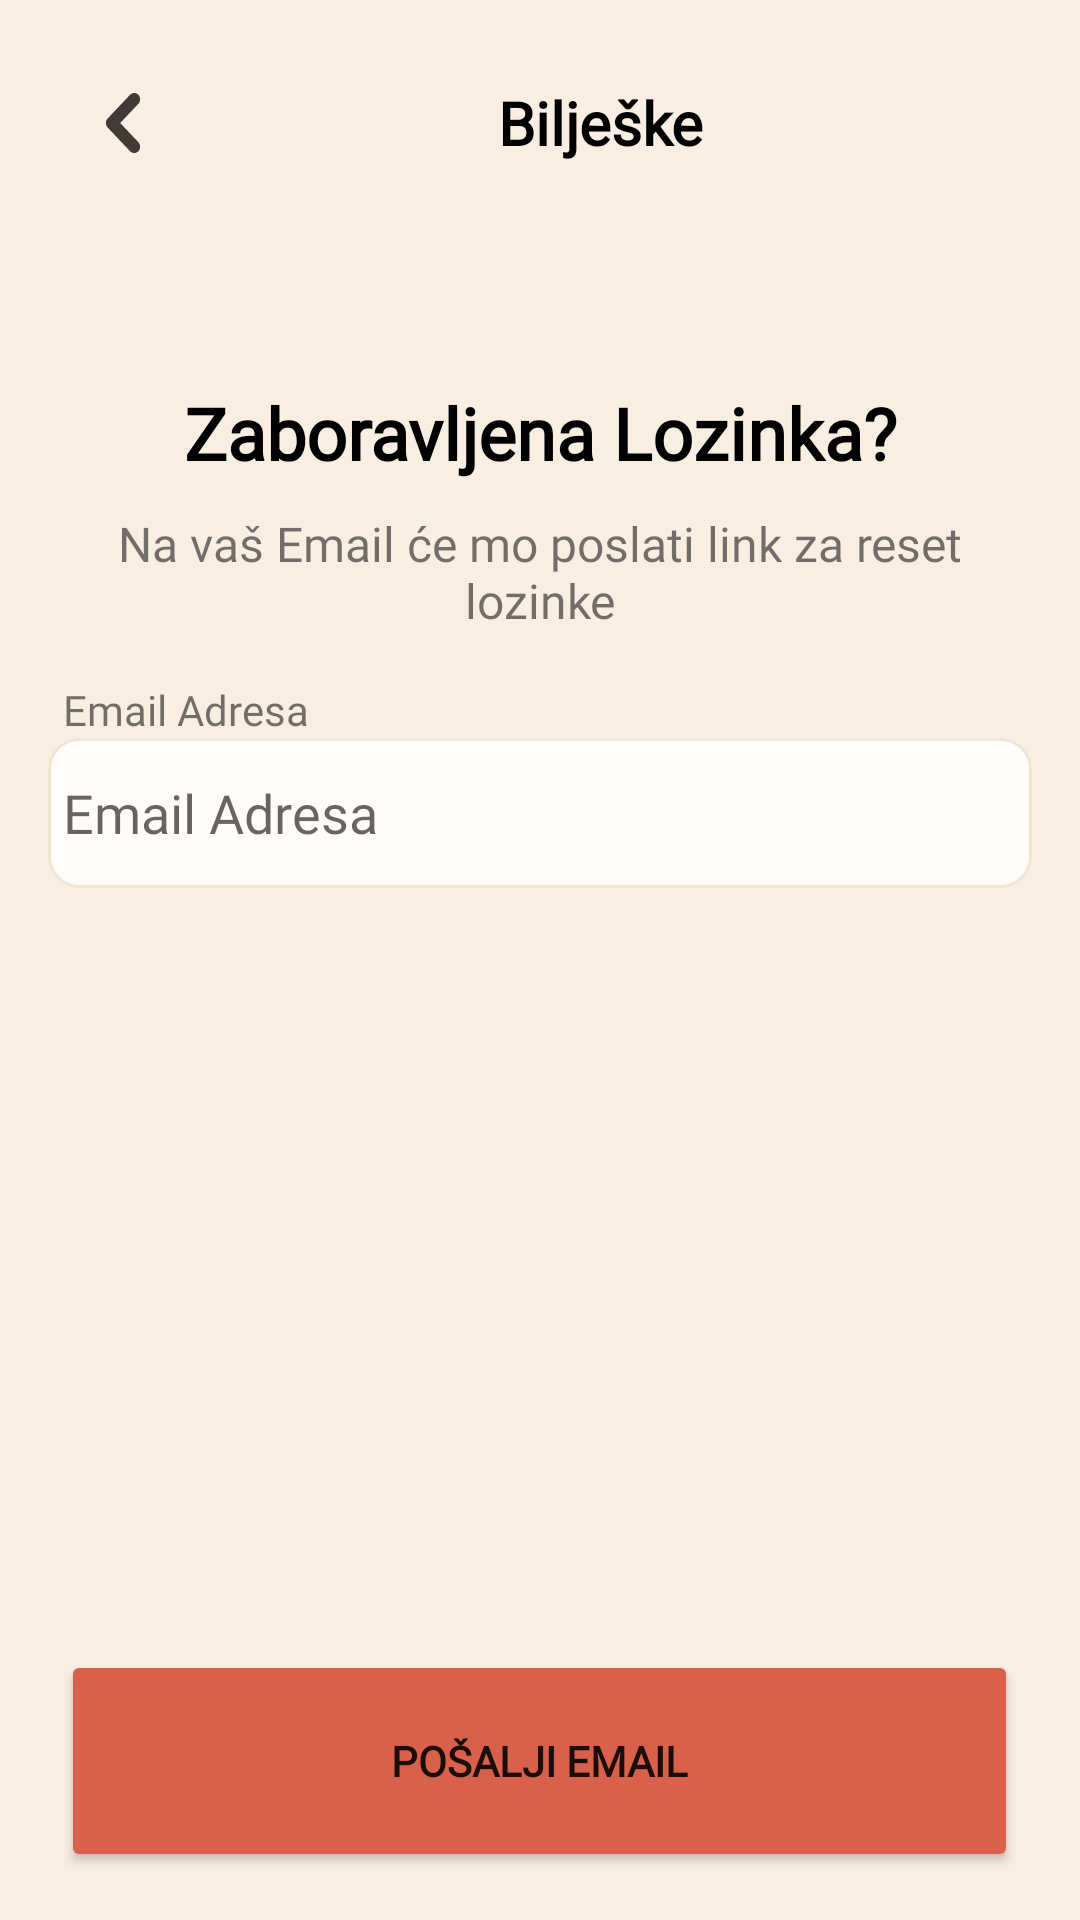

Named icons in this screenshot (1080x1920) and their centers, [x,y]:
back: [123,123]
